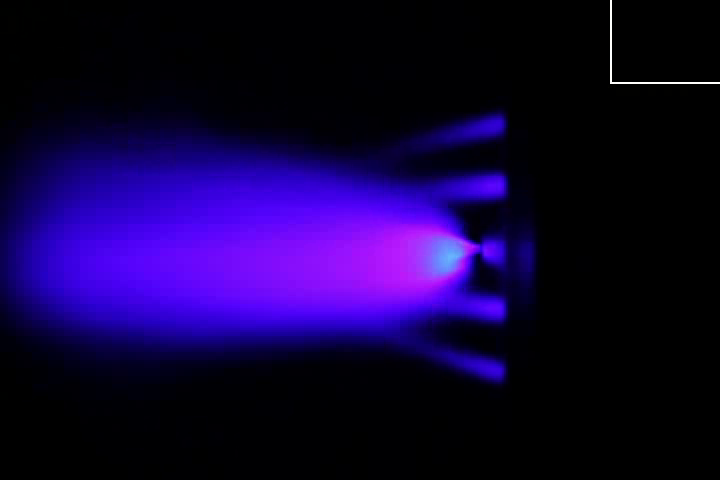burner cap: (477, 232, 507, 266)
pilot flame: (390, 333, 503, 377), (378, 115, 507, 151), (419, 174, 508, 204), (439, 291, 505, 319)
stable: (368, 213, 480, 296)
